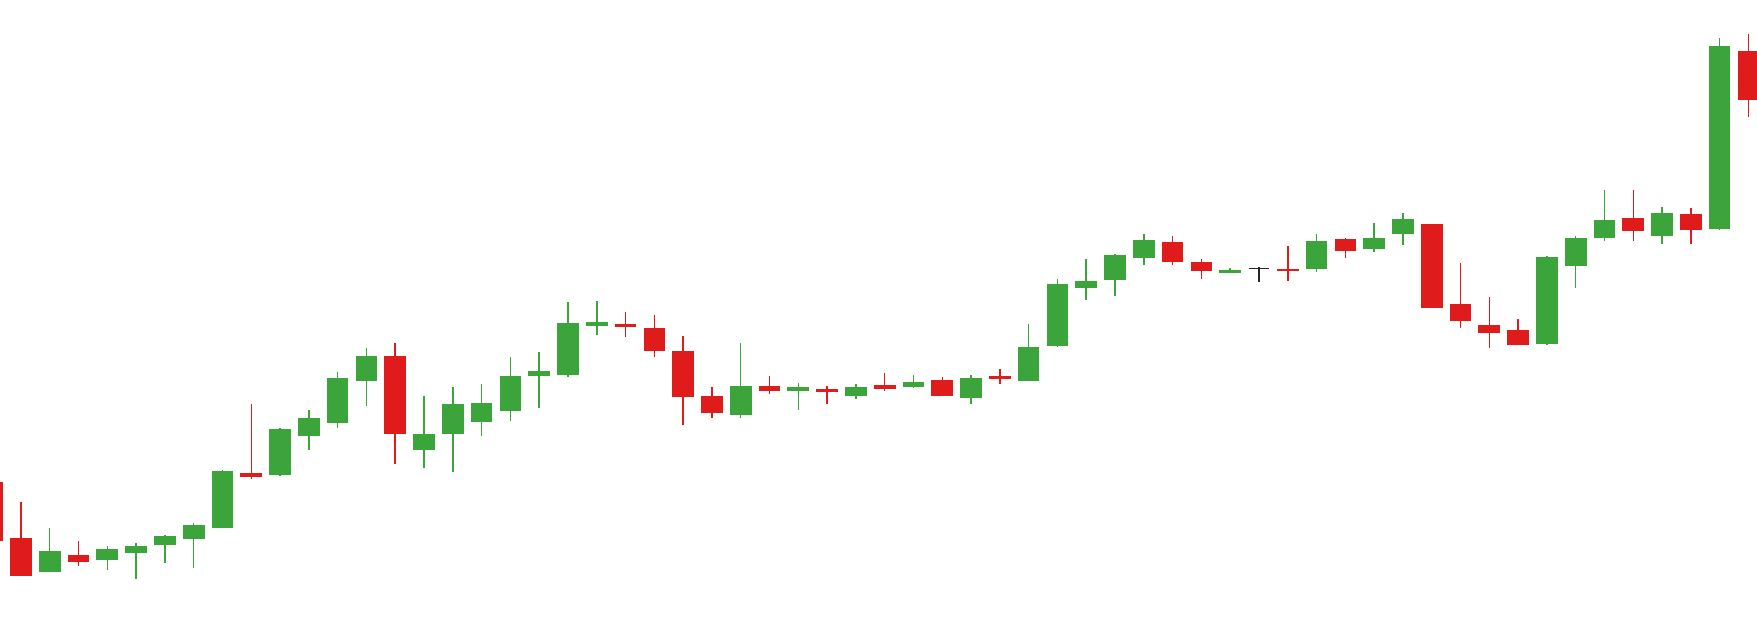buy: (1251, 233, 1563, 358)
